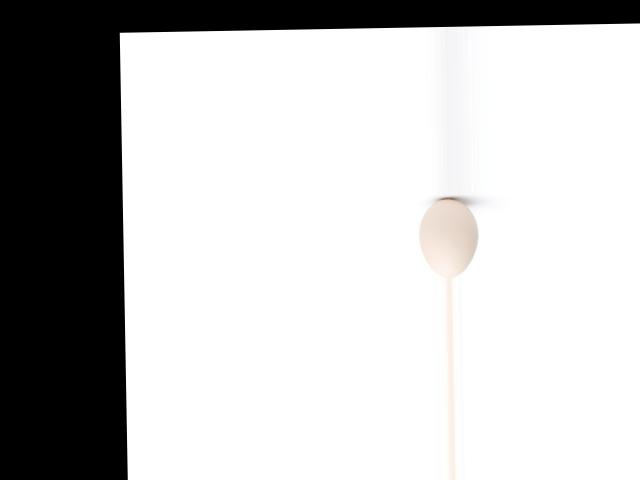egg: (418, 197, 478, 277)
